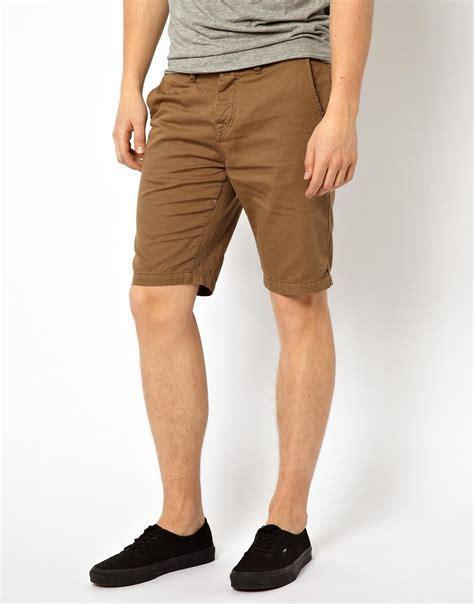short: (130, 60, 336, 297)
